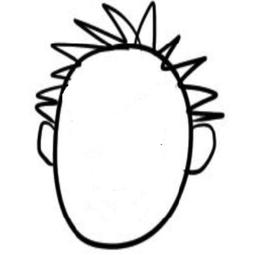ear: (181, 120, 227, 178), (30, 117, 70, 166)
